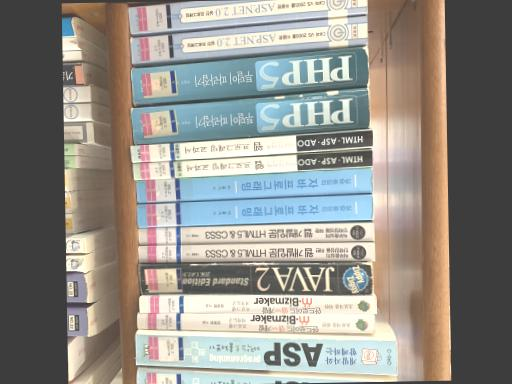book-spine: (129, 89, 368, 146), (130, 48, 368, 105), (129, 15, 367, 64), (135, 335, 396, 376), (128, 0, 366, 35), (135, 169, 372, 204), (136, 195, 373, 229), (130, 130, 371, 163), (138, 263, 372, 296), (132, 150, 372, 181), (136, 223, 374, 245), (137, 243, 375, 263), (137, 314, 374, 334), (139, 296, 376, 314), (135, 369, 386, 384)
